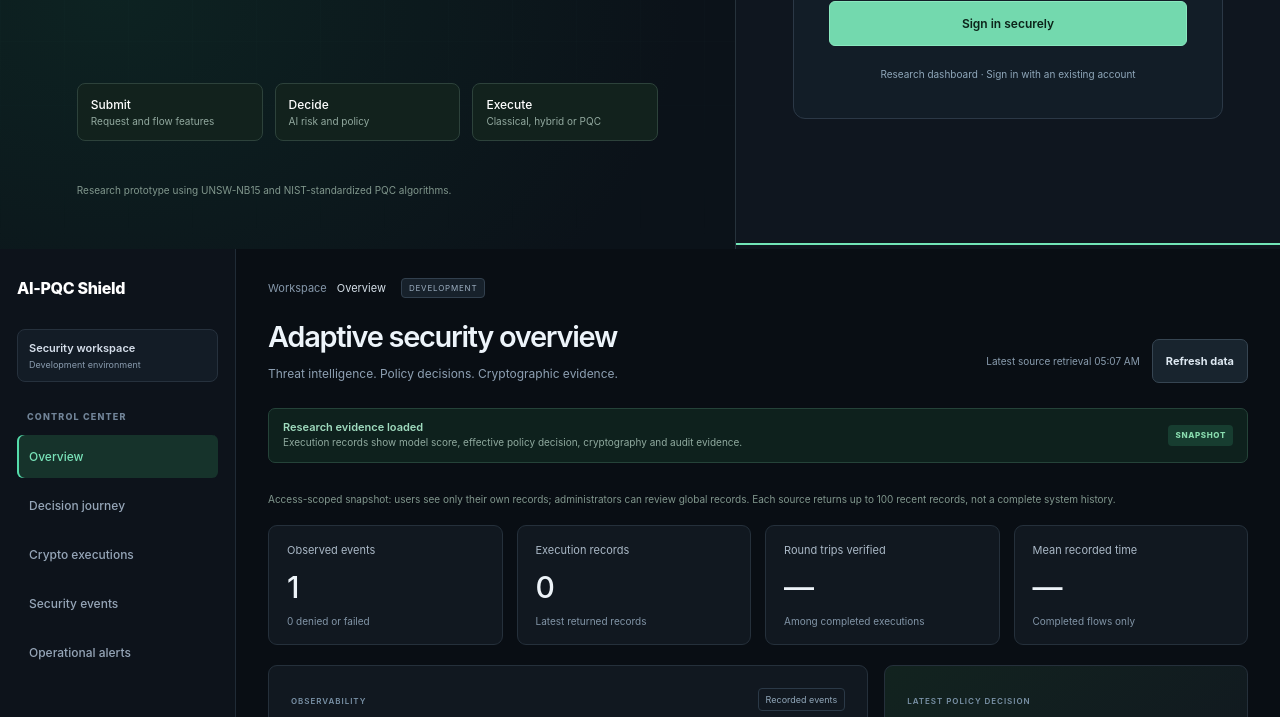
it: marks retained records stale after a partial refresh, then recovers
(page scrolled)
Expected: the text "Research evidence loaded" is shown, [283,420,423,434]
Click the button "Refresh data" at (1200, 361), box [1152,339,1248,383]
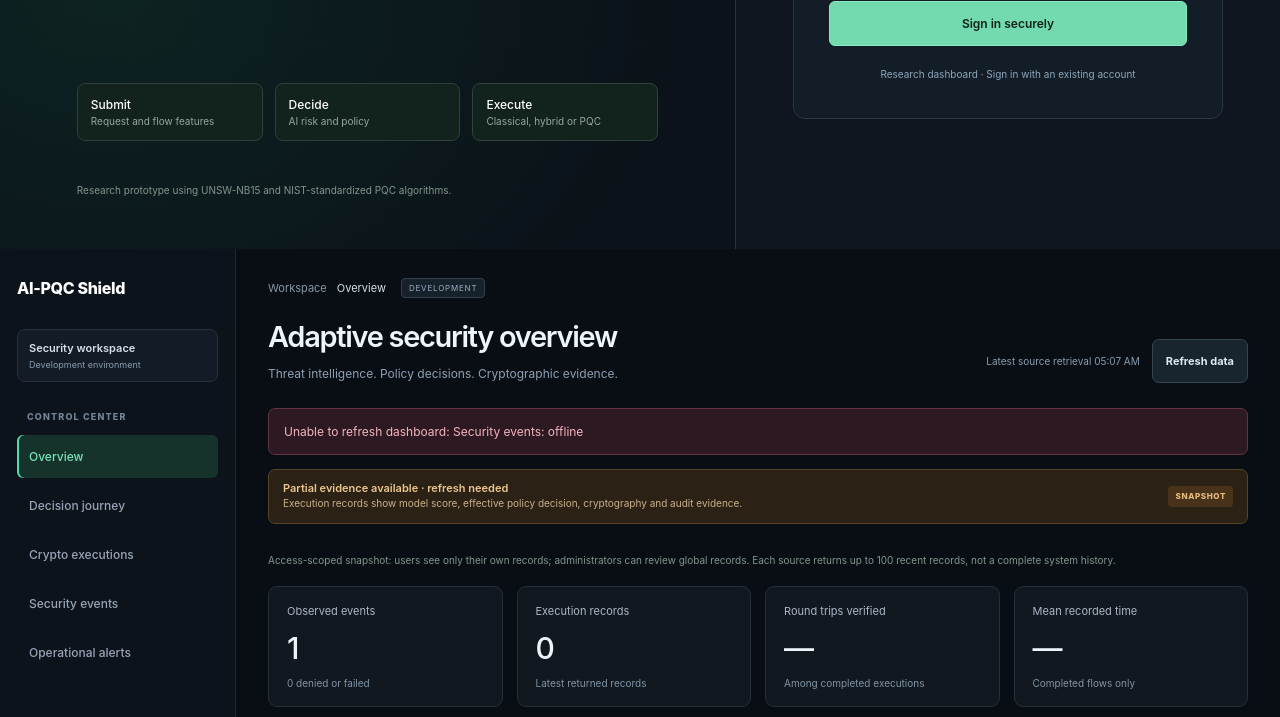
Click the button "Refresh data" at (1200, 361), box [1152,339,1248,383]
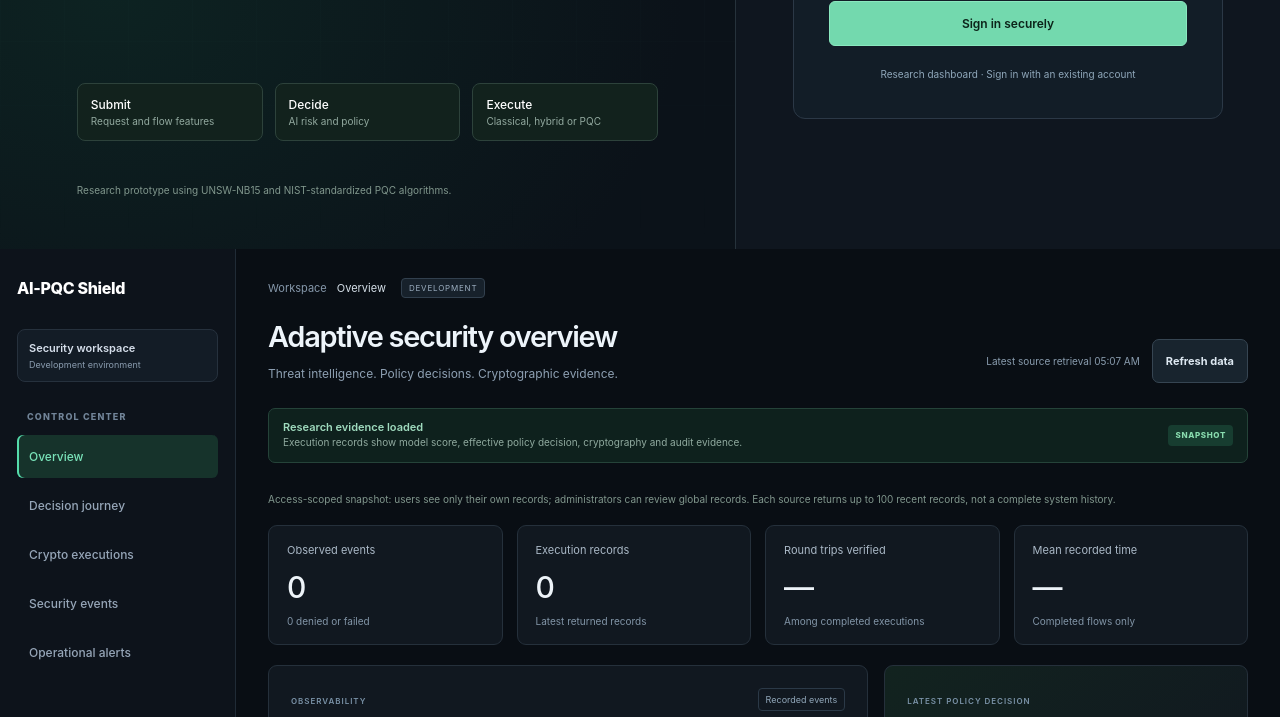
Result: the text "Research evidence loaded" is shown at [283,420,423,434]
